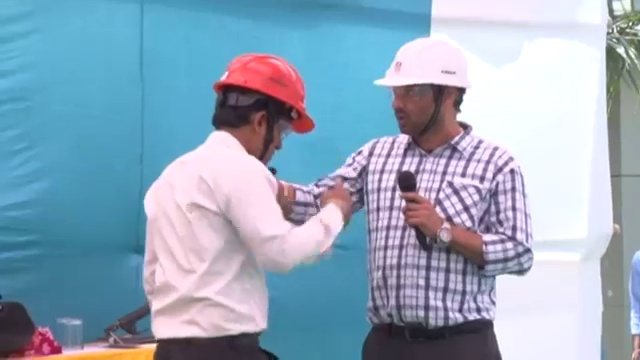helmet: (213, 48, 317, 135), (369, 36, 476, 92)
helmet_on: (212, 46, 318, 173), (369, 35, 481, 143)
person: (278, 37, 536, 360), (138, 48, 348, 360)
